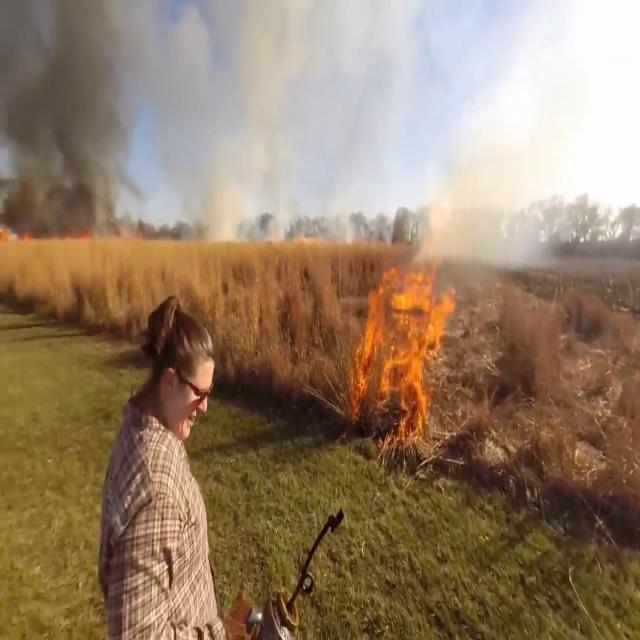Fire: (350, 254, 462, 440)
Smoke: (136, 2, 324, 258), (402, 21, 589, 274), (0, 1, 140, 225)
